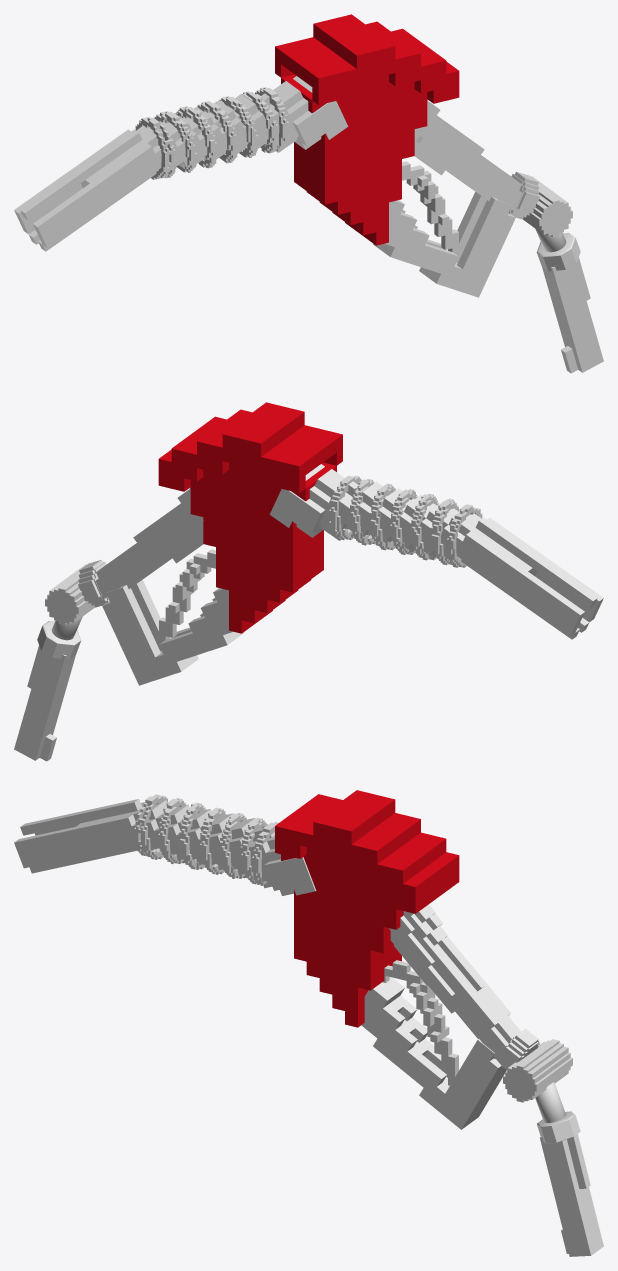
The model's file is Nuzzle.fbx.
The picture shows the model from 3 angles, top to bottom: view 1: azimuth 30°, elevation 25°; view 2: azimuth 150°, elevation 25°; view 3: azimuth 330°, elevation 25°; orthographic projection.
Parts seen in each view (by area): view 1: Cube.004, Cylinder, Cube.001, Circle, Cylinder.001, Cylinder.002, Cube, Cylinder.003, Cube.003, Cube.002; view 2: Cube.004, Cylinder, Cube.001, Circle, Cylinder.001, Cylinder.002, Cube, Cylinder.003, Cube.003, Cube.002; view 3: Cube.004, Cylinder, Cube.001, Cylinder.001, Circle, Cylinder.002, Cylinder.003, Cube, Cube.003, Cube.002, Cylinder.004.
Part boxes in pixels (x1,y1,x2,y2): Cube.004: [275, 14, 459, 245]; Cylinder: [14, 76, 348, 251]; Cube.001: [373, 192, 515, 297]; Circle: [135, 87, 289, 179]; Cylinder.001: [414, 99, 522, 214]; Cylinder.002: [542, 257, 603, 373]; Cube: [402, 161, 458, 261]; Cylinder.003: [523, 176, 572, 236]; Cube.003: [536, 233, 580, 271]; Cube.002: [508, 171, 539, 219]; Cube.004: [158, 402, 342, 633]; Cylinder: [269, 464, 603, 639]; Cube.001: [102, 580, 244, 685]; Circle: [329, 475, 482, 567]; Cylinder.001: [95, 487, 203, 602]; Cylinder.002: [14, 645, 75, 761]; Cube: [159, 549, 215, 649]; Cylinder.003: [45, 564, 94, 624]; Cube.003: [37, 621, 81, 659]; Cube.002: [78, 559, 109, 607]; Cube.004: [275, 790, 459, 1027]; Cylinder: [14, 799, 316, 895]; Cube.001: [361, 977, 506, 1129]; Cylinder.001: [389, 904, 520, 1067]; Circle: [134, 794, 278, 885]; Cylinder.002: [539, 1134, 603, 1256]; Cylinder.003: [503, 1039, 572, 1102]; Cube: [382, 960, 458, 1085]; Cube.003: [537, 1111, 580, 1143]; Cube.002: [498, 1028, 539, 1069]; Cylinder.004: [535, 1082, 566, 1122].
Size of the model in its own units: 515 by 333 by 67.64.
